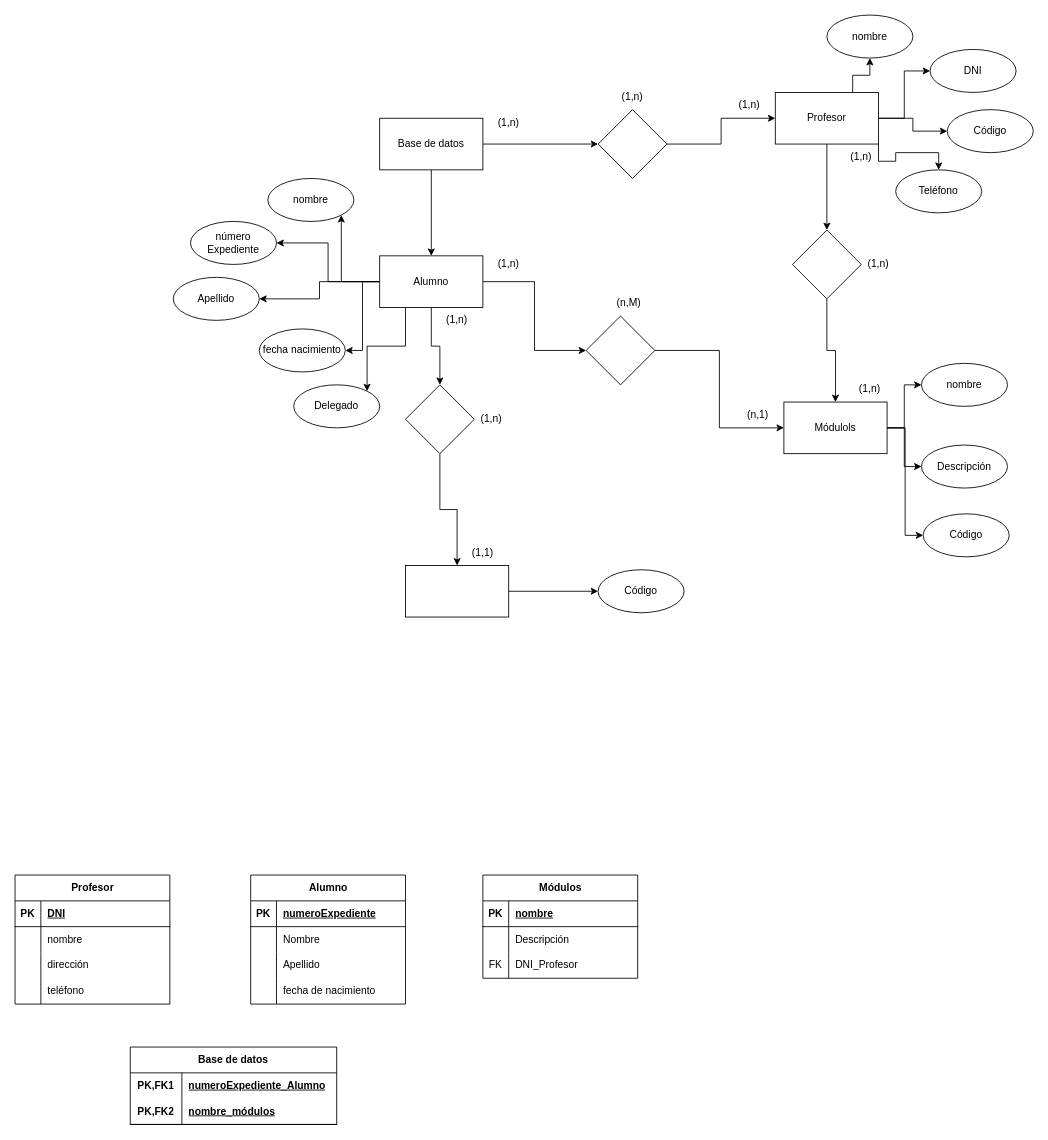
This 1048x1140 diagram has some shape labels left out. The shapes that lost their labels are listed below. From the top down, each one's centre as x and y in pixels, then its label:
the point at 632,143: Guarda datos
the point at 826,264: Imparte
the point at 620,350: Reciben Varios
the point at 439,419: Estan
the point at 457,591: Clases
